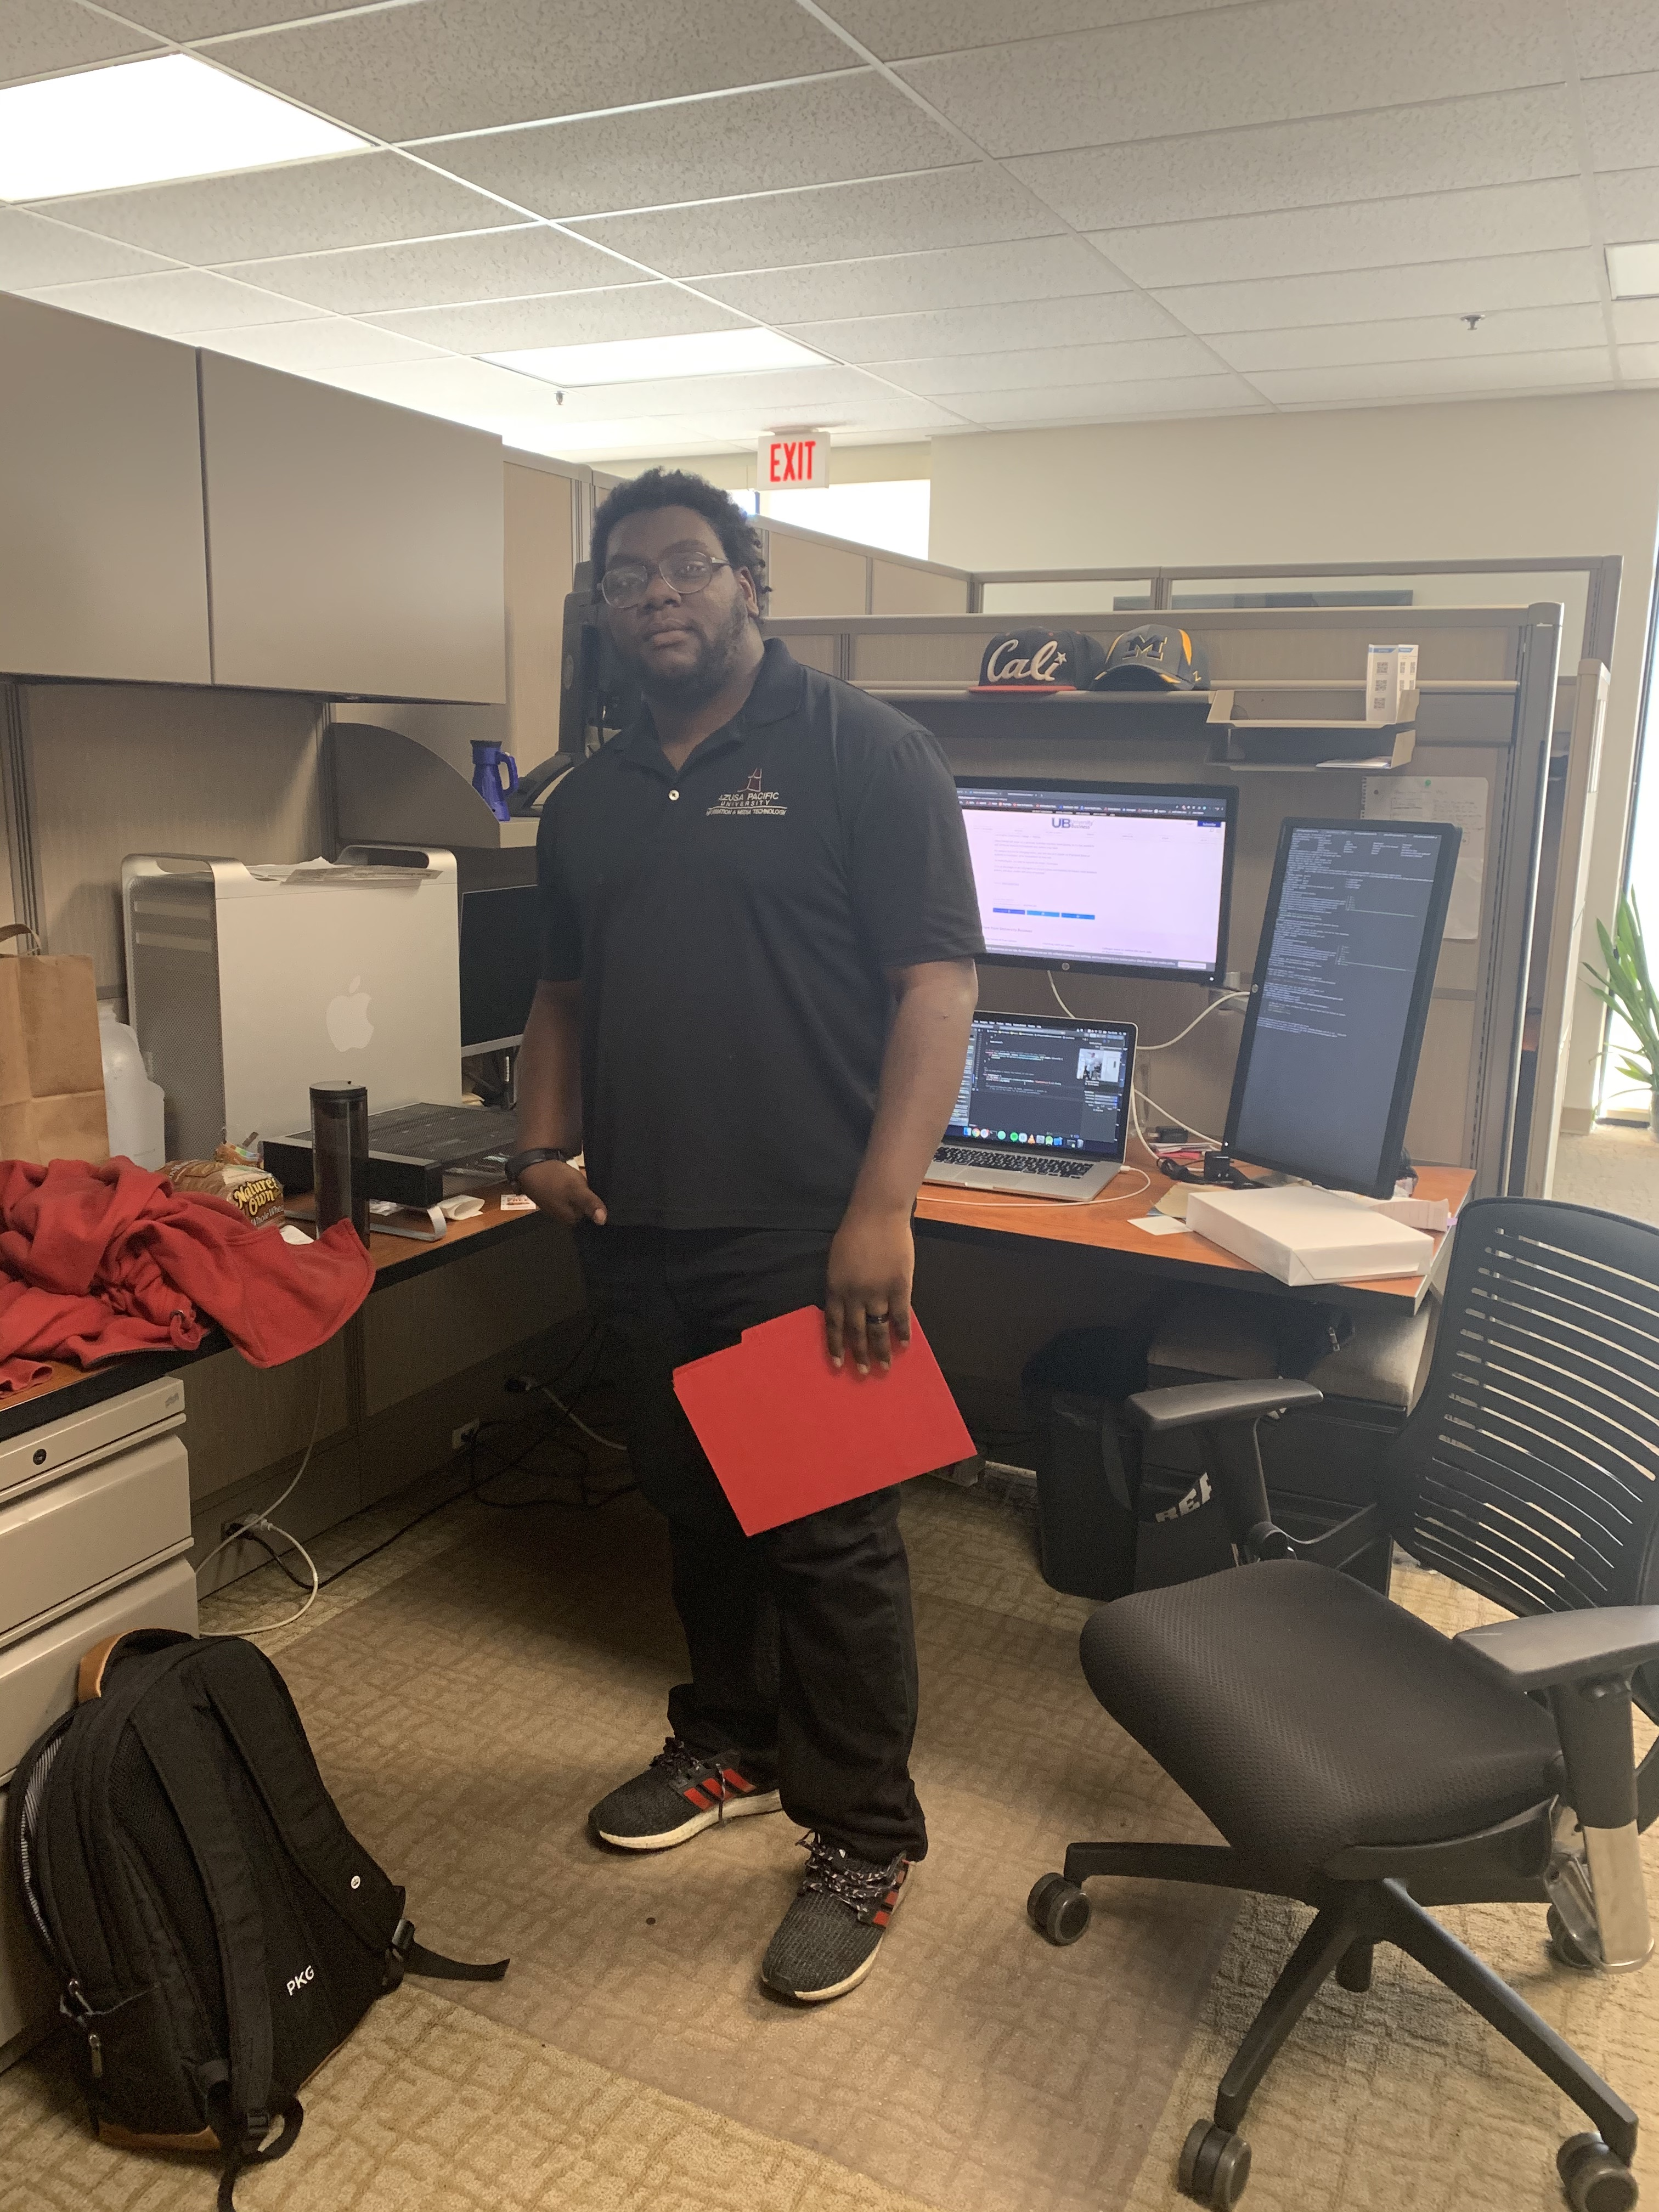red folder: (662, 1299, 1002, 1554)
